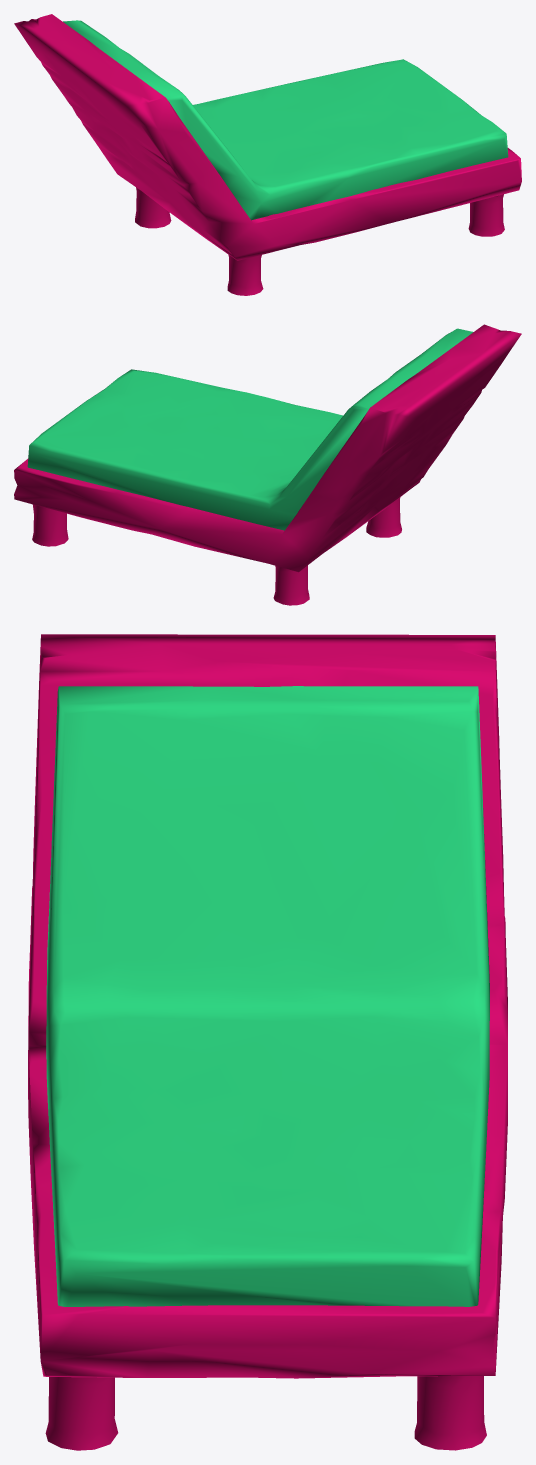
File: F_Sunlounger1k_02.fbx
The picture shows the model from 3 angles, top to bottom: view 1: azimuth 30°, elevation 25°; view 2: azimuth 150°, elevation 25°; view 3: azimuth 270°, elevation 25°; orthographic projection. The views are drawn at different scales.
Parts seen in each view (by area): view 1: F_lezak_02; view 2: F_lezak_02; view 3: F_lezak_02.
Boxes of the visible parts, bbox=[...] form: F_lezak_02: bbox=[14, 14, 521, 295]; F_lezak_02: bbox=[14, 324, 521, 605]; F_lezak_02: bbox=[28, 634, 507, 1450].
Size of the model in its own units: 169 by 90.55 by 89.15.
